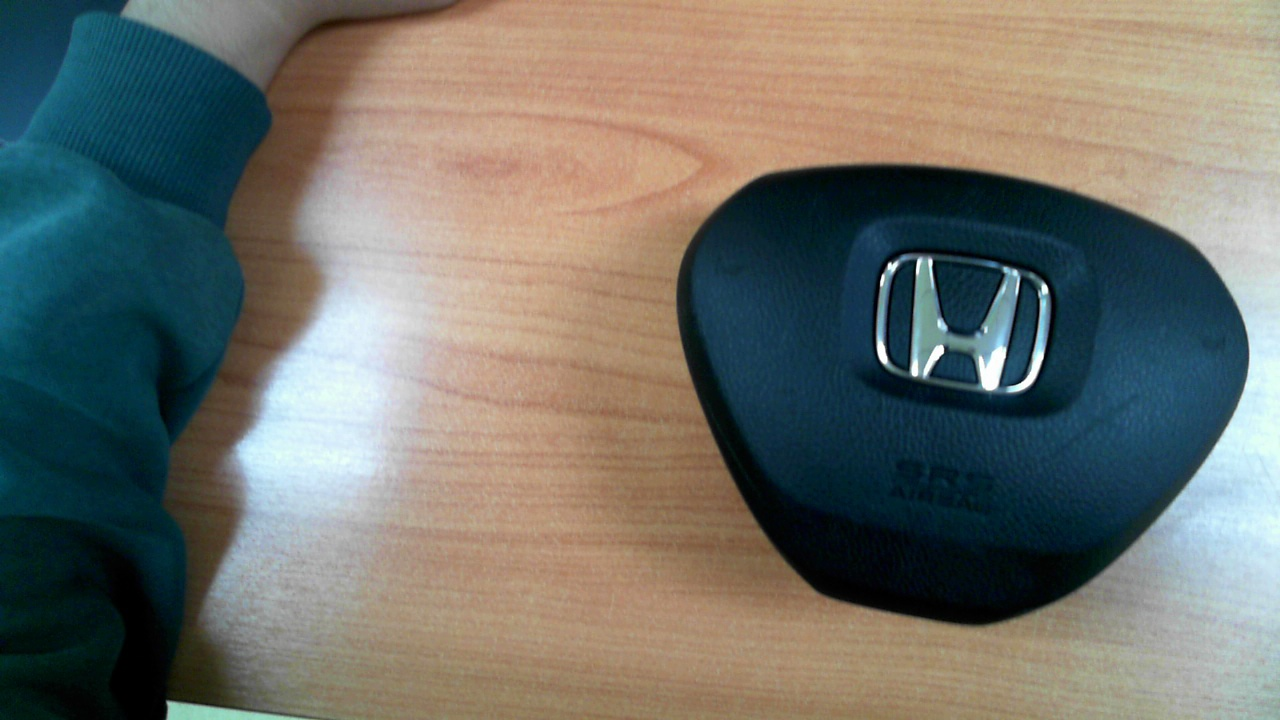Airbag: (676, 163, 1251, 627)
Honda: (874, 253, 1052, 393)
